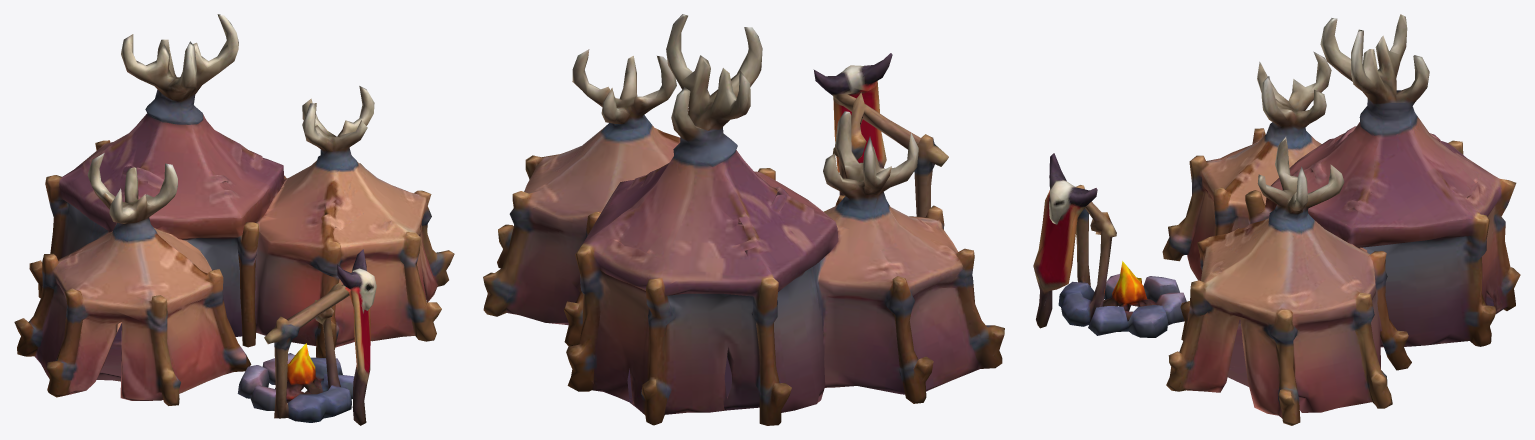
Rendered from camp_beasts.glb.
3 views of the same model, side by side, from view 1: azimuth 30°, elevation 25°; view 2: azimuth 150°, elevation 25°; view 3: azimuth 270°, elevation 25° (orthographic). The views are drawn at different scales.
Visible parts, largest first — view 1: world; view 2: world; view 3: world.
Part boxes in pixels (bbox=[...]): world: bbox=[14, 14, 454, 425]; world: bbox=[483, 14, 1004, 425]; world: bbox=[1033, 14, 1520, 425].
Size of the model in its own units: 0.9964 by 0.6579 by 0.961.
1 material, 1 textured.
